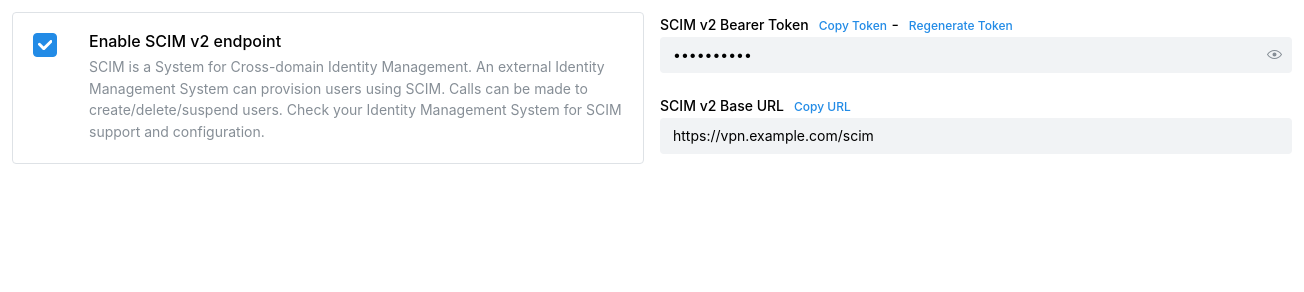
Test: Provisioning (SCIM) › shows the backend error when toggling SCIM fails
Click the text "Enable SCIM v2 endpoint": point(185, 41) [89,31,281,51]
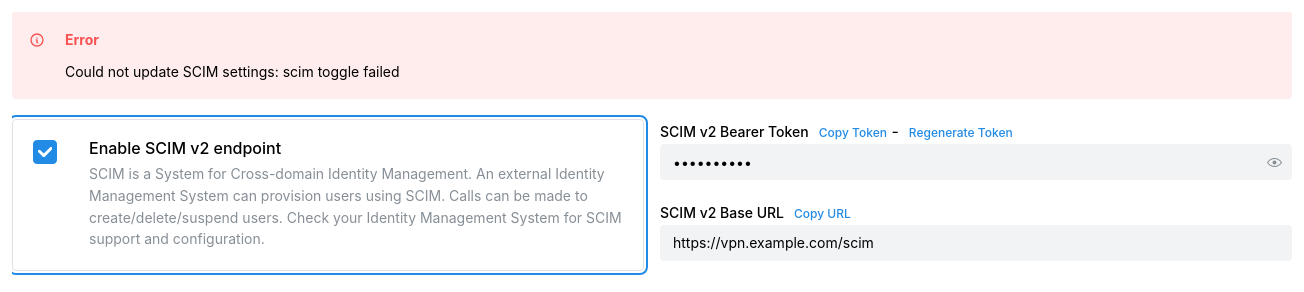
expect the text "Could not update SCIM settings: scim toggle failed" is shown: met, box [65,63,400,80]
